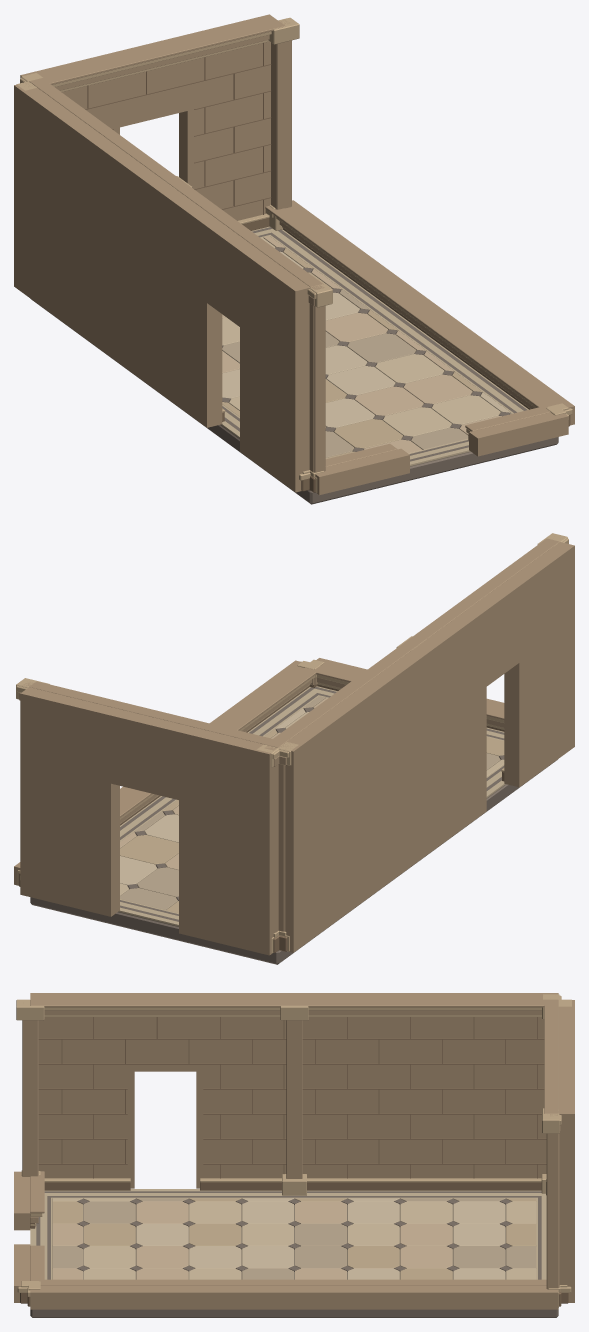
Rendered from mainb1_service_architecture.glb.
3 renders of one model, top to bottom at view 1: azimuth 30°, elevation 25°; view 2: azimuth 150°, elevation 25°; view 3: azimuth 270°, elevation 25°, orthographic. The views are drawn at different scales.
Visible parts, largest first — view 1: mainb1_service_left_Wall_Solid_00, mainb1_service_Floor, mainb1_service_rear_Wall_Solid_00, mainb1_service_front_Cutedge_Solid_00, mainb1_service_right_Cutedge_Solid_00, mainb1_service_right_Cutedge_Cornice_00_3_0, mainb1_service_left_Wall_Cornice_00_3_0, Pier_001, mainb1_service_Floor_Foundation, mainb1_service_rear_Wall_Cornice_00_3_0, Pier_002, mainb1_service_rear_Masonry_Real_joint_mesh (+7 smaller); view 2: mainb1_service_left_Wall_Solid_00, mainb1_service_rear_Wall_Solid_00, mainb1_service_Floor, mainb1_service_left_Wall_Cornice_00_3_0, mainb1_service_Floor_Foundation, mainb1_service_rear_Wall_Cornice_00_3_0, mainb1_service_right_Cutedge_Cornice_00_3_0, mainb1_service_right_Cutedge_Solid_00, Pilaster_Shaft, Pilaster_Shaft_003, mainb1_service_front_Cutedge_Solid_00; view 3: mainb1_service_left_Wall_Solid_00, mainb1_service_Floor, mainb1_service_right_Cutedge_Solid_00, mainb1_service_left_Masonry_Real_joint_mesh, mainb1_service_Floor_Foundation, mainb1_service_rear_Wall_Solid_00, mainb1_service_left_Wall_Cornice_00_3_0, mainb1_service_right_Cutedge_Cornice_00_3_0, mainb1_service_left_Wall_Skirting_00_1, Pier_003, Pier_002, mainb1_service_left_Wall_Cornice_00_1_0 (+15 smaller).
Part boxes in pixels (left/top/right/bottom): mainb1_service_left_Wall_Solid_00: left=14, top=84, right=309, bottom=492; mainb1_service_Floor: left=221, top=226, right=528, bottom=465; mainb1_service_rear_Wall_Solid_00: left=20, top=14, right=277, bottom=220; mainb1_service_front_Cutedge_Solid_00: left=315, top=412, right=568, bottom=495; mainb1_service_right_Cutedge_Solid_00: left=285, top=200, right=574, bottom=425; mainb1_service_right_Cutedge_Cornice_00_3_0: left=265, top=206, right=553, bottom=412; mainb1_service_left_Wall_Cornice_00_3_0: left=29, top=78, right=323, bottom=287; Pier_001: left=271, top=19, right=291, bottom=209; mainb1_service_Floor_Foundation: left=31, top=299, right=558, bottom=504; mainb1_service_rear_Wall_Cornice_00_3_0: left=42, top=20, right=285, bottom=84; Pier_002: left=311, top=285, right=325, bottom=472; mainb1_service_rear_Masonry_Real_joint_mesh: left=85, top=43, right=271, bottom=214; mainb1_service_left_Wall_Solid_00: left=283, top=542, right=574, bottom=952; mainb1_service_rear_Wall_Solid_00: left=20, top=687, right=274, bottom=955; mainb1_service_Floor: left=119, top=686, right=505, bottom=926; mainb1_service_left_Wall_Cornice_00_3_0: left=266, top=538, right=559, bottom=747; mainb1_service_Floor_Foundation: left=30, top=759, right=557, bottom=964; mainb1_service_rear_Wall_Cornice_00_3_0: left=29, top=681, right=278, bottom=747; mainb1_service_right_Cutedge_Cornice_00_3_0: left=120, top=668, right=316, bottom=817; mainb1_service_right_Cutedge_Solid_00: left=14, top=660, right=304, bottom=885; Pilaster_Shaft: left=278, top=764, right=284, bottom=931; Pilaster_Shaft_003: left=275, top=764, right=278, bottom=932; mainb1_service_front_Cutedge_Solid_00: left=316, top=658, right=504, bottom=710; mainb1_service_left_Wall_Solid_00: left=30, top=993, right=558, bottom=1188; mainb1_service_Floor: left=30, top=1189, right=546, bottom=1279; mainb1_service_right_Cutedge_Solid_00: left=30, top=1286, right=558, bottom=1309; mainb1_service_left_Masonry_Real_joint_mesh: left=38, top=1017, right=546, bottom=1178; mainb1_service_Floor_Foundation: left=30, top=1309, right=558, bottom=1317; mainb1_service_rear_Wall_Solid_00: left=558, top=1000, right=574, bottom=1302; mainb1_service_left_Wall_Cornice_00_3_0: left=30, top=999, right=558, bottom=1007; mainb1_service_right_Cutedge_Cornice_00_3_0: left=30, top=1279, right=546, bottom=1285; mainb1_service_left_Wall_Skirting_00_1: left=200, top=1182, right=541, bottom=1190; Pier_003: left=286, top=1020, right=302, bottom=1178; Pier_002: left=22, top=1020, right=38, bottom=1176; mainb1_service_left_Wall_Cornice_00_1_0: left=44, top=1010, right=541, bottom=1014.
Size of the model in its own units: 5.16 by 3.86 by 9.56.
